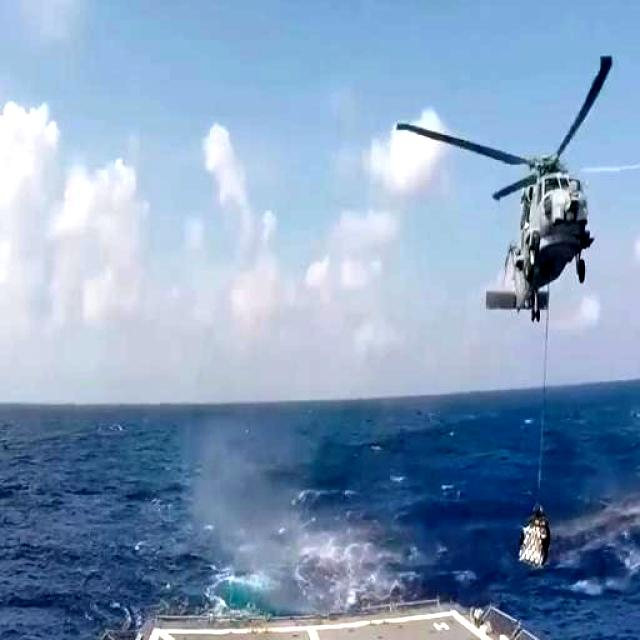drone: (390, 34, 640, 338)
